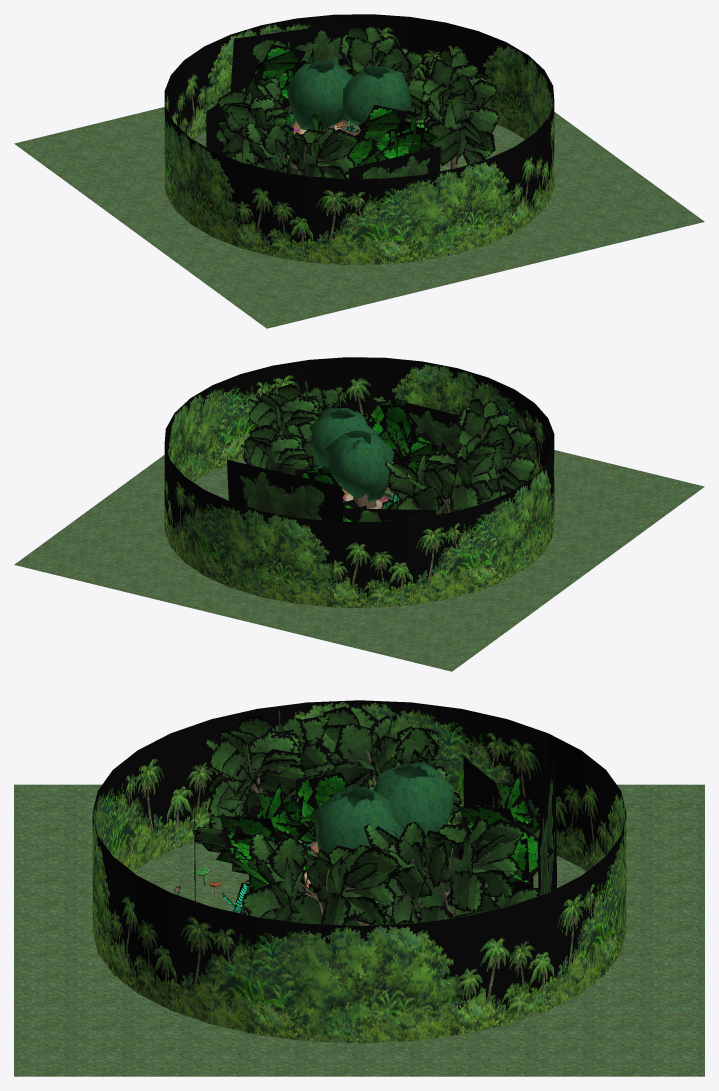
3 renders of one model, top to bottom at view 1: azimuth 30°, elevation 25°; view 2: azimuth 150°, elevation 25°; view 3: azimuth 270°, elevation 25°, orthographic. The views are drawn at different scales.
Visible parts, largest first — view 1: jungle, road_wood.004, leaves_deciduous, leaves_main, fake_news_tree, leaves_jungly, leaves_deciduous.001, fake_news_tree2; view 2: jungle, road_wood.004, leaves_deciduous, fake_news_tree, leaves_main, leaves_jungly, leaves_deciduous.001, fake_news_tree2; view 3: jungle, road_wood.004, leaves_deciduous, leaves_deciduous.001, leaves_jungly, leaves_main, fake_news_tree, fake_news_tree2.
Part boxes in pixels (x1,y1,x2,y2): jungle: (164, 14, 554, 264); road_wood.004: (14, 107, 704, 328); leaves_deciduous: (217, 48, 499, 178); leaves_main: (286, 60, 411, 130); fake_news_tree: (230, 21, 440, 178); leaves_jungly: (237, 44, 456, 165); leaves_deciduous.001: (338, 25, 425, 124); fake_news_tree2: (206, 79, 260, 155); jungle: (164, 357, 554, 607); road_wood.004: (14, 450, 704, 671); leaves_deciduous: (247, 379, 535, 514); fake_news_tree: (227, 402, 460, 521); leaves_main: (309, 408, 394, 501); leaves_jungly: (291, 398, 447, 521); leaves_deciduous.001: (241, 417, 316, 475); fake_news_tree2: (343, 508, 436, 521); jungle: (92, 700, 626, 1043); road_wood.004: (14, 784, 704, 1076); leaves_deciduous: (193, 705, 461, 925); leaves_deciduous.001: (363, 819, 538, 923); leaves_jungly: (215, 767, 554, 891); leaves_main: (315, 761, 453, 854); fake_news_tree: (194, 752, 556, 900); fake_news_tree2: (463, 757, 533, 891).
Bounding box in the file's own units: 232735 × 61604 × 232735.
Materials: 21 (21 with a texture image).
